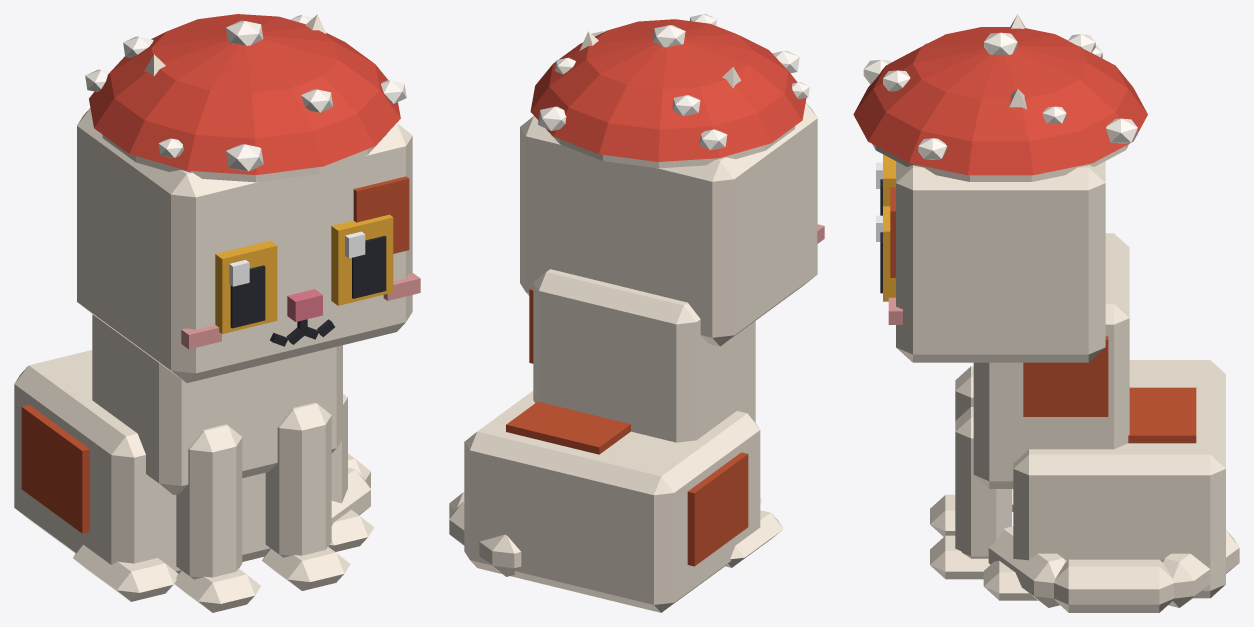
File: CatCafe_Cat_Toadstool_Sit.glb
3 renders of one model, left to right at view 1: azimuth 30°, elevation 25°; view 2: azimuth 150°, elevation 25°; view 3: azimuth 270°, elevation 25°, orthographic. The views are drawn at different scales.
Visible parts, largest first — view 1: CatCafe_Cat_Toadstool_Sit_Head, CatCafe_Cat_Toadstool_Sit_Body, CatCafe_Cat_Toadstool_Sit_Prop, CatCafe_Cat_Toadstool_Sit_LegF1, CatCafe_Cat_Toadstool_Sit_LegF2, CatCafe_Cat_Toadstool_Sit_Eye2, CatCafe_Cat_Toadstool_Sit_Eye1, CatCafe_Cat_Toadstool_Sit_Tail; view 2: CatCafe_Cat_Toadstool_Sit_Body, CatCafe_Cat_Toadstool_Sit_Head, CatCafe_Cat_Toadstool_Sit_Prop, CatCafe_Cat_Toadstool_Sit_Tail; view 3: CatCafe_Cat_Toadstool_Sit_Body, CatCafe_Cat_Toadstool_Sit_Head, CatCafe_Cat_Toadstool_Sit_Prop, CatCafe_Cat_Toadstool_Sit_Tail, CatCafe_Cat_Toadstool_Sit_LegF1, CatCafe_Cat_Toadstool_Sit_LegF2, CatCafe_Cat_Toadstool_Sit_Eye1, CatCafe_Cat_Toadstool_Sit_Eye2.
Boxes of the visible parts, box(x1,y1,x2,y2) form: CatCafe_Cat_Toadstool_Sit_Head: box(77, 108, 420, 382); CatCafe_Cat_Toadstool_Sit_Body: box(14, 314, 374, 601); CatCafe_Cat_Toadstool_Sit_Prop: box(85, 14, 406, 182); CatCafe_Cat_Toadstool_Sit_LegF1: box(262, 402, 350, 590); CatCafe_Cat_Toadstool_Sit_LegF2: box(174, 424, 260, 612); CatCafe_Cat_Toadstool_Sit_Eye2: box(215, 240, 277, 333); CatCafe_Cat_Toadstool_Sit_Eye1: box(331, 214, 393, 305); CatCafe_Cat_Toadstool_Sit_Tail: box(331, 453, 370, 525); CatCafe_Cat_Toadstool_Sit_Body: box(464, 269, 783, 612); CatCafe_Cat_Toadstool_Sit_Head: box(520, 102, 824, 346); CatCafe_Cat_Toadstool_Sit_Prop: box(530, 14, 809, 168); CatCafe_Cat_Toadstool_Sit_Tail: box(449, 492, 521, 576); CatCafe_Cat_Toadstool_Sit_Body: box(973, 233, 1225, 600); CatCafe_Cat_Toadstool_Sit_Head: box(888, 161, 1105, 362); CatCafe_Cat_Toadstool_Sit_Prop: box(853, 27, 1147, 181); CatCafe_Cat_Toadstool_Sit_Tail: box(988, 526, 1239, 612); CatCafe_Cat_Toadstool_Sit_LegF1: box(930, 407, 1011, 579); CatCafe_Cat_Toadstool_Sit_LegF2: box(930, 366, 973, 536); CatCafe_Cat_Toadstool_Sit_Eye1: box(876, 206, 895, 301); CatCafe_Cat_Toadstool_Sit_Eye2: box(876, 154, 895, 215).
Bounding box in the file's own units: 1.07 × 1.92 × 1.29.
Materials: 1 (1 with a texture image).
